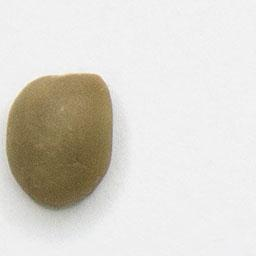premium: (3, 71, 116, 212)
